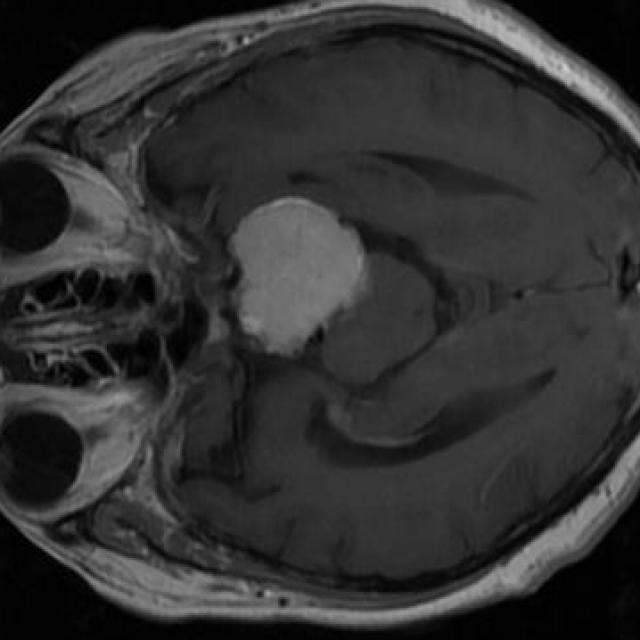meningioma: (230, 196, 364, 355)
